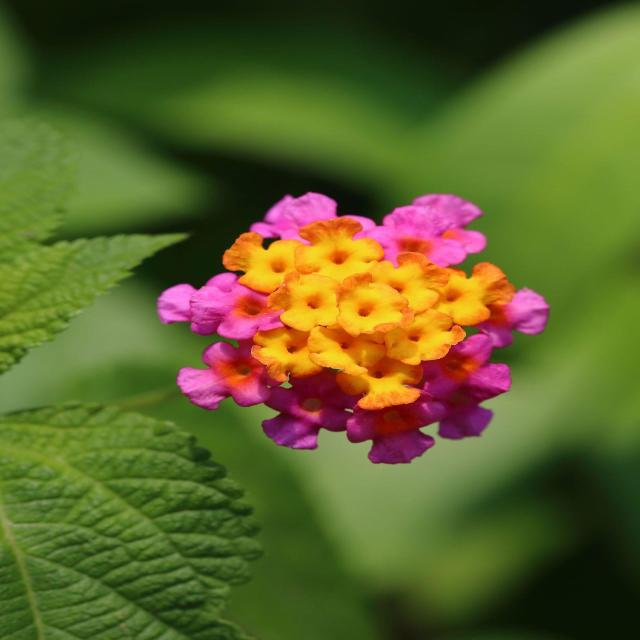organic waste: (154, 173, 583, 472)
